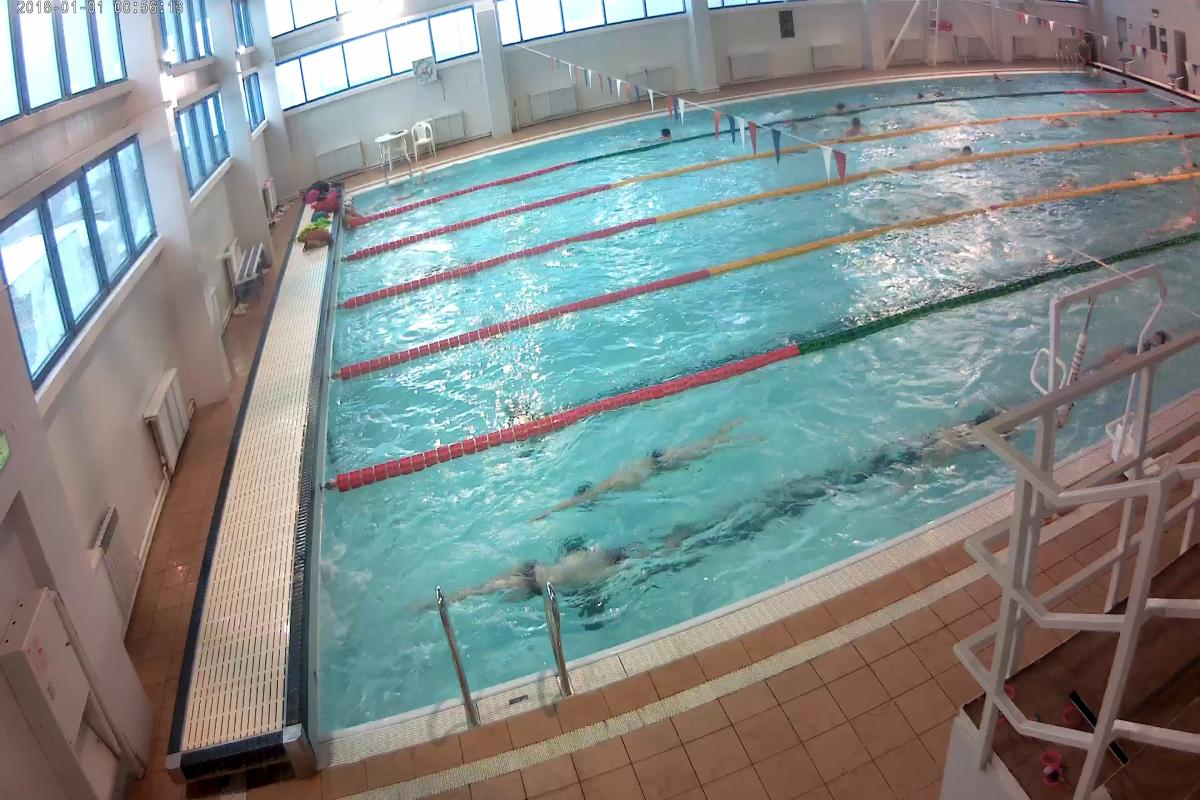swimmer: (562, 417, 748, 514), (483, 540, 640, 598), (1155, 199, 1199, 234), (837, 114, 870, 136)
